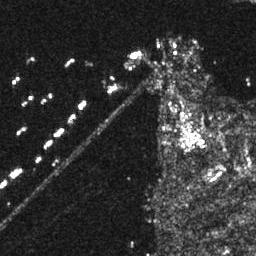ship: (9, 167, 23, 181), (129, 49, 145, 61), (106, 82, 119, 95), (39, 93, 54, 104), (20, 95, 33, 106), (42, 138, 55, 149), (64, 57, 76, 68), (53, 128, 66, 137), (77, 99, 87, 110), (16, 125, 27, 135), (10, 76, 22, 85), (1, 177, 8, 192), (68, 113, 76, 124), (155, 36, 161, 49), (35, 155, 43, 164)
